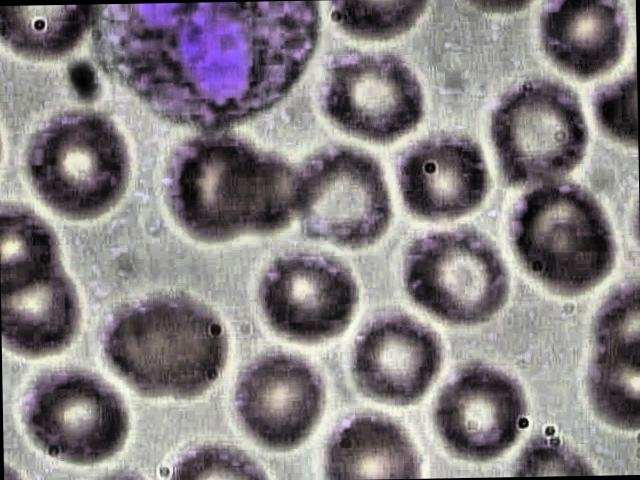RBC: (95, 286, 234, 396), (22, 109, 134, 226), (25, 357, 136, 474), (484, 73, 595, 190), (507, 176, 618, 293), (404, 222, 508, 330), (233, 344, 337, 452), (257, 239, 361, 346), (285, 144, 396, 243), (318, 44, 429, 142), (433, 362, 530, 461), (395, 128, 492, 227), (347, 310, 444, 408)
WBC: (99, 1, 324, 134)
